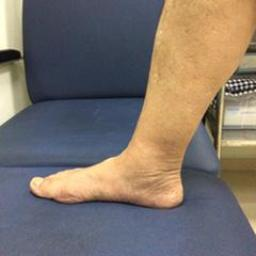Medial View -Right Foot-: (22, 116, 212, 221)
